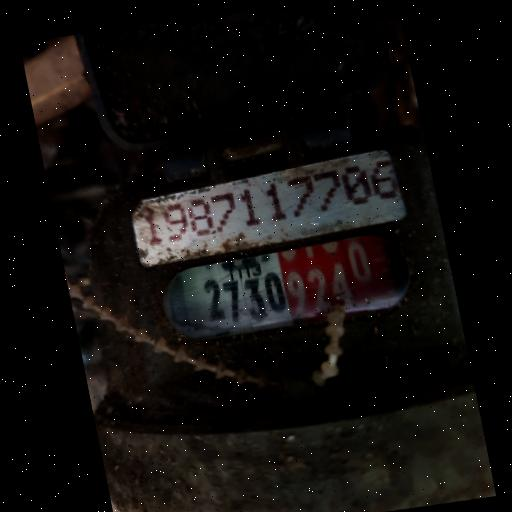0: (341, 234, 385, 315), (256, 251, 292, 329)
2: (194, 262, 233, 338), (300, 243, 336, 320)
3: (236, 254, 273, 332)
4: (320, 240, 359, 316)
7: (218, 259, 252, 335)
9: (278, 247, 314, 322)
border_water_meter_number: (155, 218, 419, 360)
